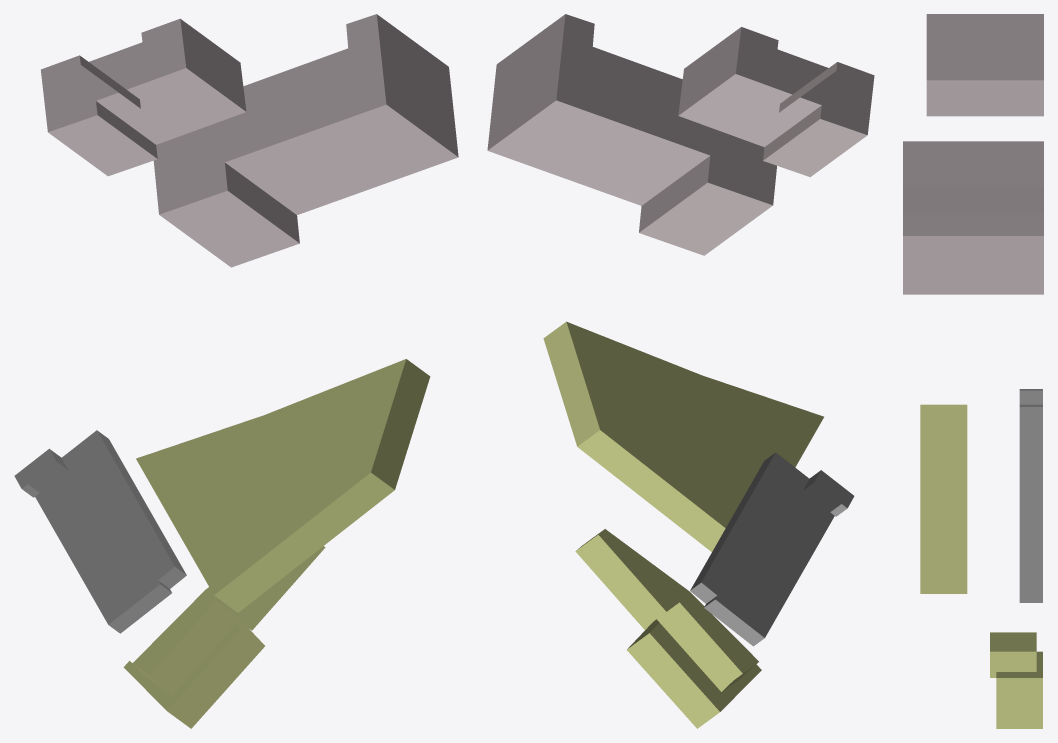
3 renders of one model, left to right at view 1: azimuth 30°, elevation 25°; view 2: azimuth 150°, elevation 25°; view 3: azimuth 270°, elevation 25°, orthographic. The views are drawn at different scales.
Parts seen in each view (by area): view 1: 0_1_0_1_3_3; view 2: 0_1_0_1_3_3; view 3: 0_1_0_1_3_3.
Part boxes in pixels (bbox=[...]): 0_1_0_1_3_3: bbox=[14, 14, 458, 728]; 0_1_0_1_3_3: bbox=[487, 14, 874, 728]; 0_1_0_1_3_3: bbox=[903, 14, 1043, 728].
Size of the model in its own units: 53.6 by 94.77 by 18.
